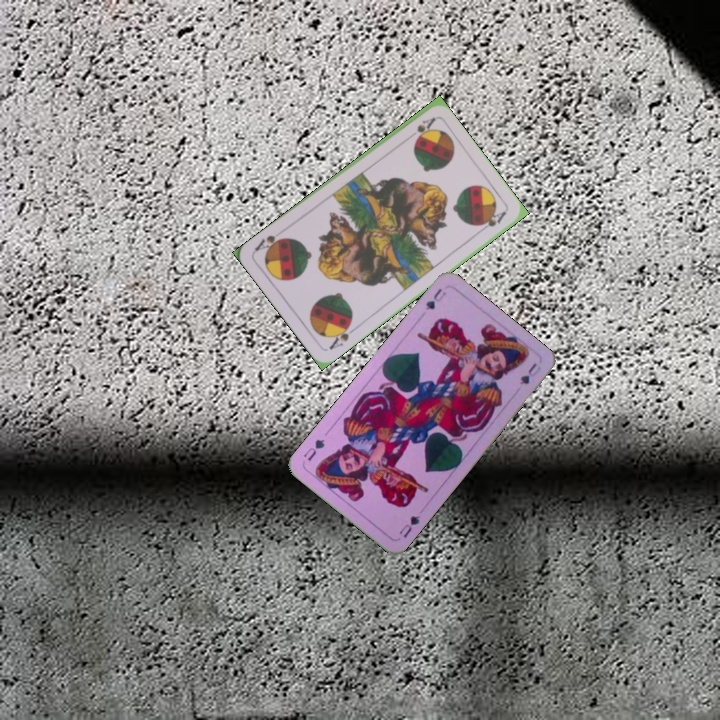GU: (395, 511, 423, 540), (421, 284, 449, 313)
SA: (325, 318, 359, 352), (402, 114, 438, 142)
